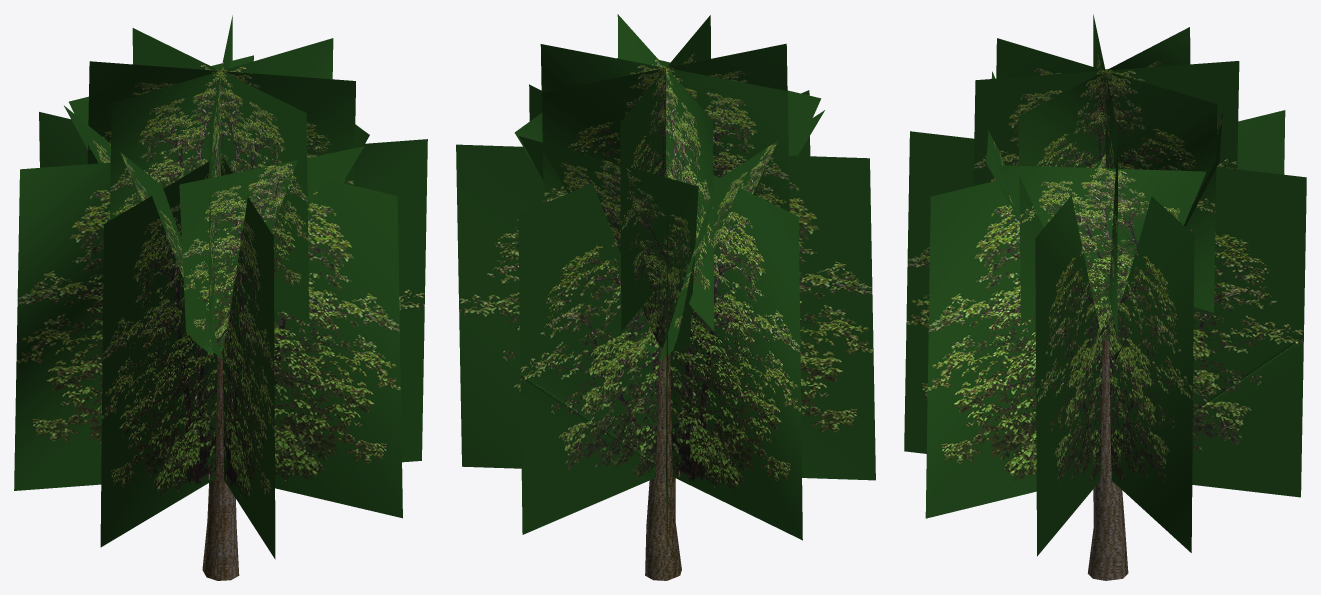
Rendered from Tree02.fbx.
3 renders of one model, left to right at view 1: azimuth 30°, elevation 25°; view 2: azimuth 150°, elevation 25°; view 3: azimuth 270°, elevation 25°, orthographic.
Visible parts, largest first — view 1: U3DMesh; view 2: U3DMesh; view 3: U3DMesh.
Part boxes in pixels (x1,y1,x2,y2): U3DMesh: (14, 15, 427, 580); U3DMesh: (456, 14, 875, 580); U3DMesh: (904, 14, 1306, 580).
Bounding box in the file's own units: 21.13 × 29.61 × 21.5.
